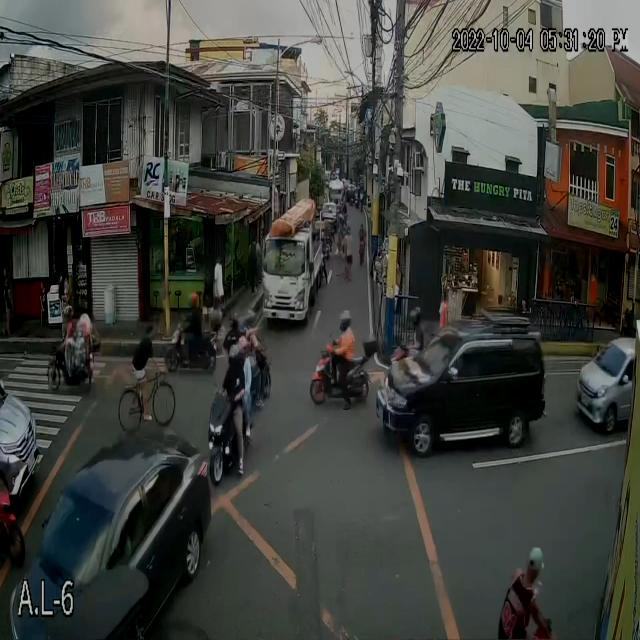Full-Faced: (337, 303, 352, 334), (406, 307, 422, 333), (228, 343, 242, 369), (231, 308, 243, 330), (62, 299, 74, 321), (188, 292, 202, 306)
